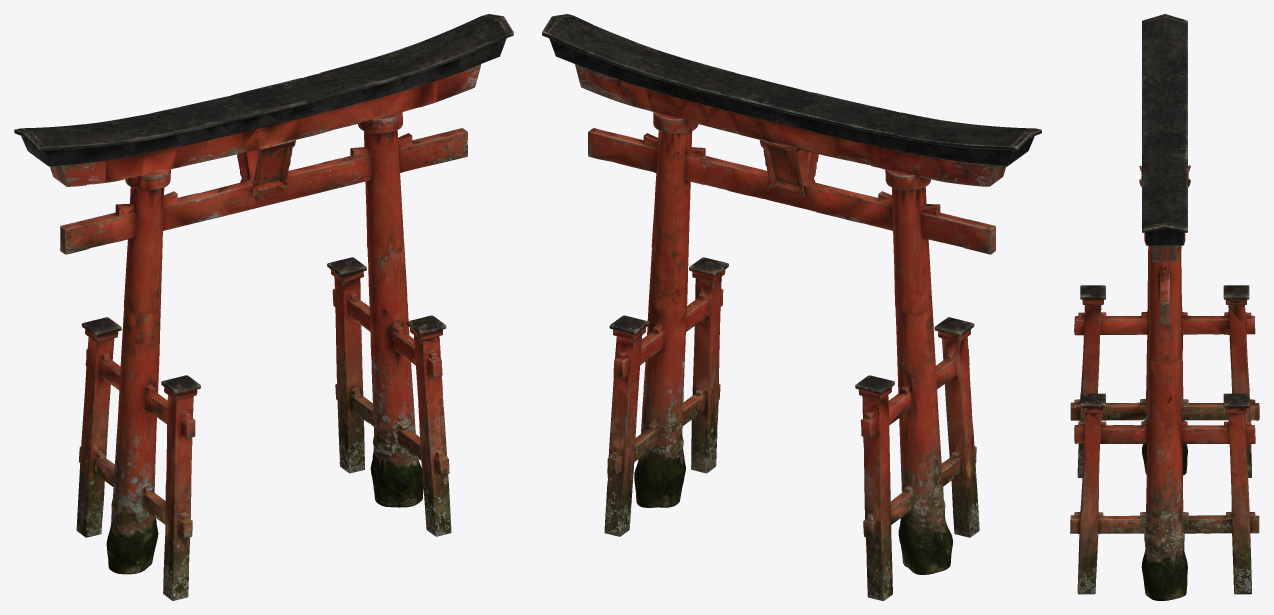
Rendered from torii.glb.
The picture shows the model from 3 angles, left to right: view 1: azimuth 30°, elevation 25°; view 2: azimuth 150°, elevation 25°; view 3: azimuth 270°, elevation 25°; orthographic projection. The views are drawn at different scales.
Visible parts, largest first — view 1: output_unwrapped; view 2: output_unwrapped; view 3: output_unwrapped.
Part boxes in pixels (x1,y1,x2,y2): output_unwrapped: [14, 14, 513, 600]; output_unwrapped: [542, 14, 1041, 600]; output_unwrapped: [1070, 14, 1259, 600].
Bounding box in the file's own units: 18.68 × 17 × 7.07.
Materials: 1 (1 with a texture image).
